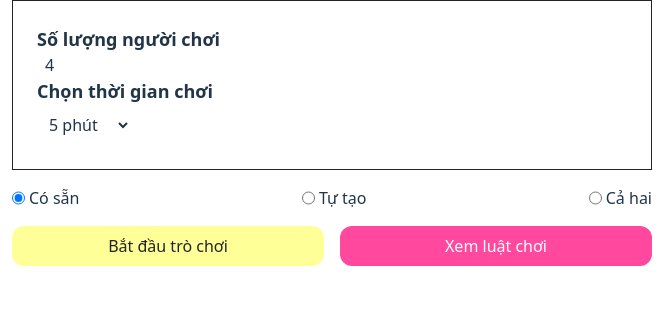
Test: SpyLobbyForm Component › Should show error if numberOfPlayers is less than 3
Replace the text in the number field with test id "formInputElement" with "2". click: (332, 65)
box: [37,53,627,77]
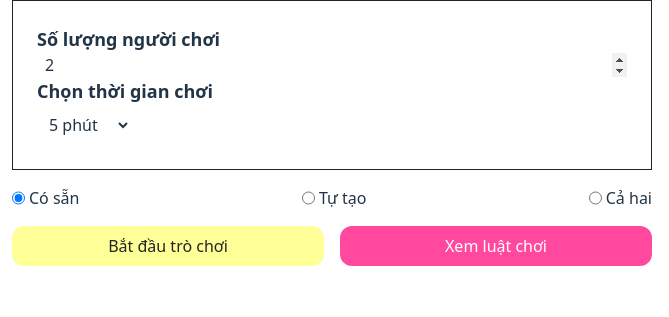
Click the button "Bắt đầu trò chơi". click: (168, 246)
box: [12,226,324,266]
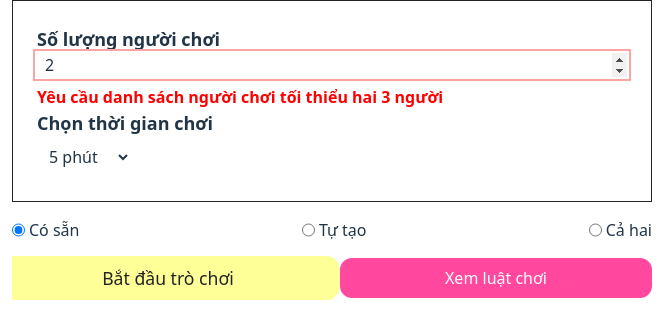
Expected: the text "Yêu cầu danh sách người chơi tối thiểu hai 3 người" is shown, [37,86,443,108]
